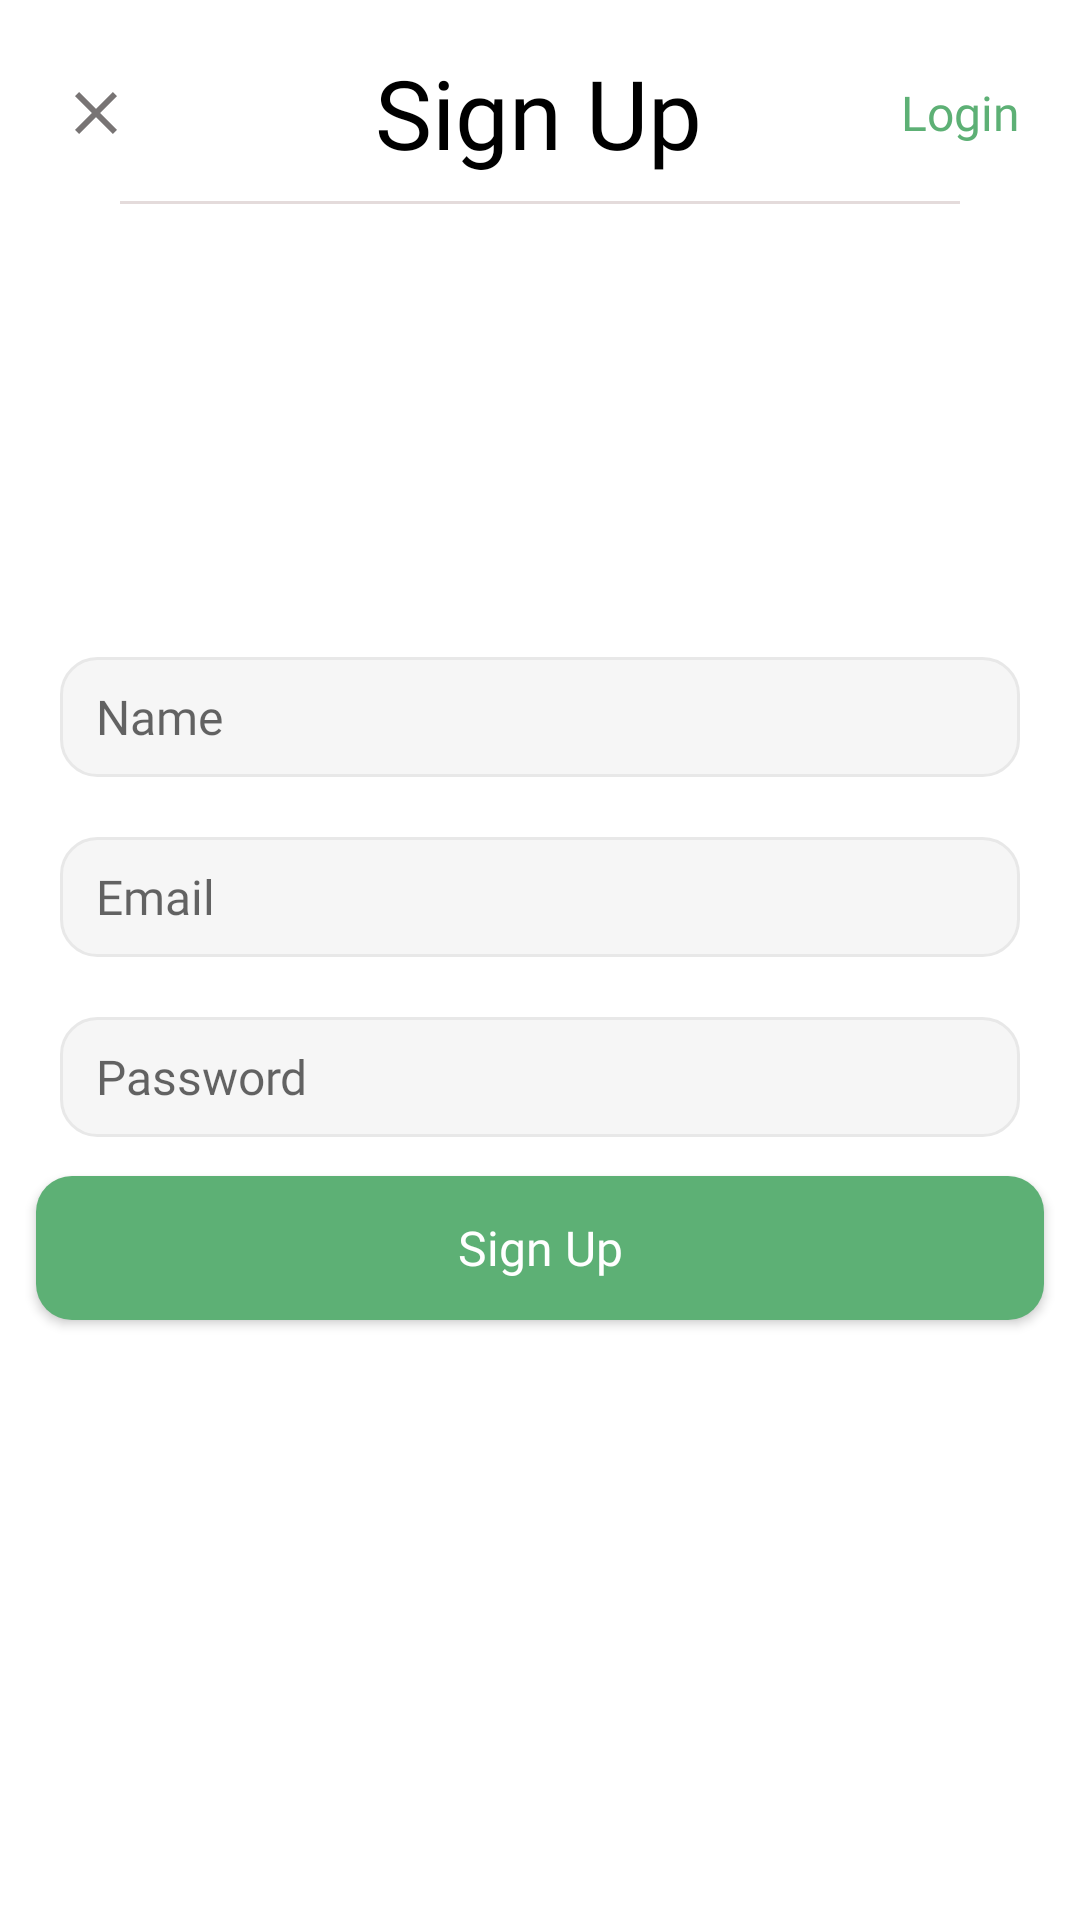

Icon click points for this 1080*1920 phone screenshot, format [x,y]:
close: [96,113]
